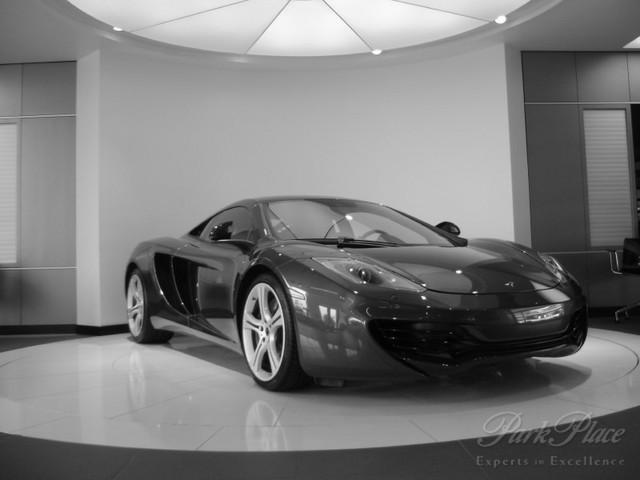car: (122, 193, 595, 393)
